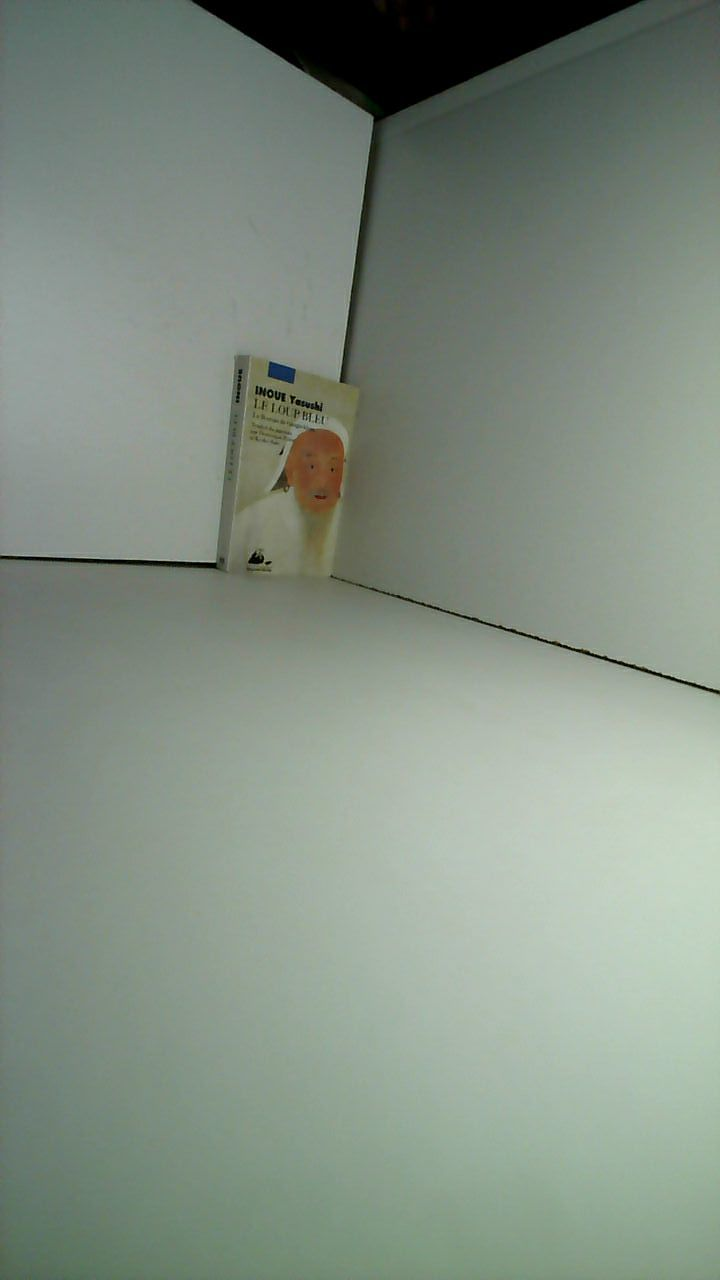book: (203, 345, 368, 603)
